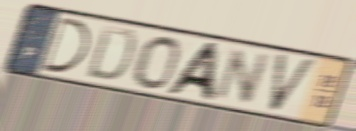A: (161, 40, 224, 104)
D: (83, 23, 138, 84), (40, 15, 93, 76)
N: (211, 46, 275, 106)
O: (130, 34, 182, 92)
V: (268, 51, 320, 115)
